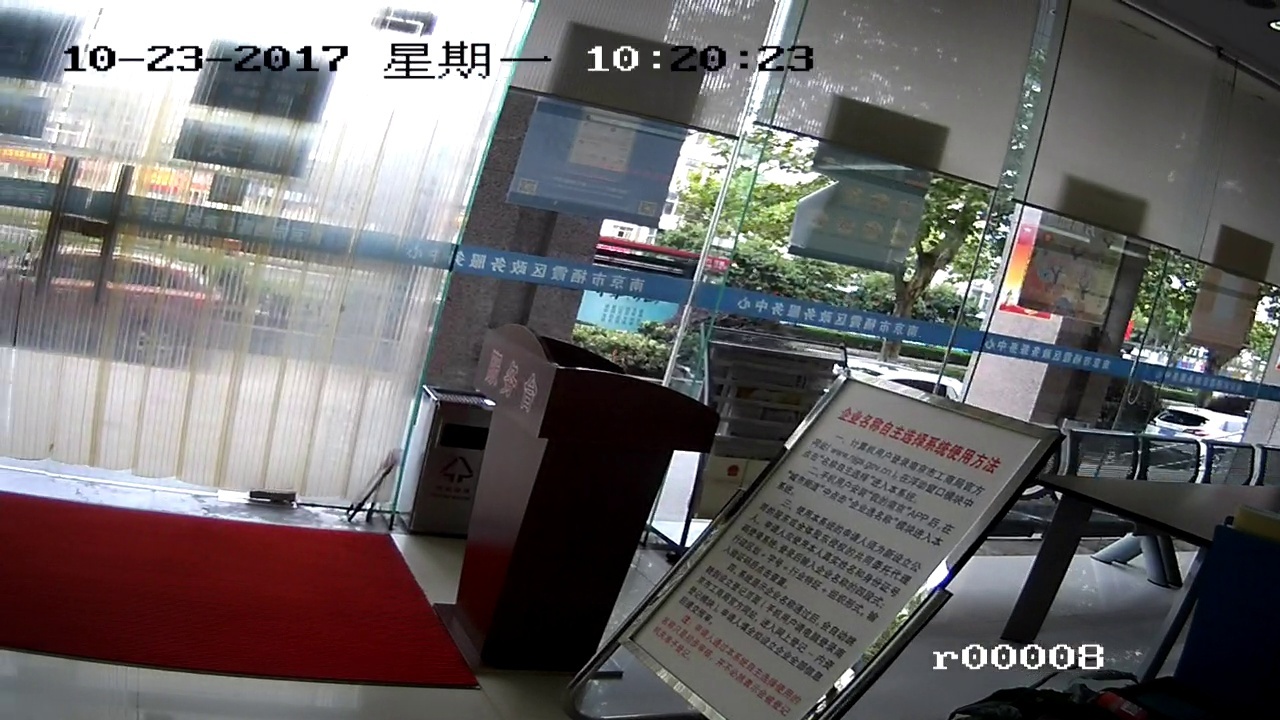billboard: (739, 401, 989, 686)
desk: (462, 319, 680, 665)
